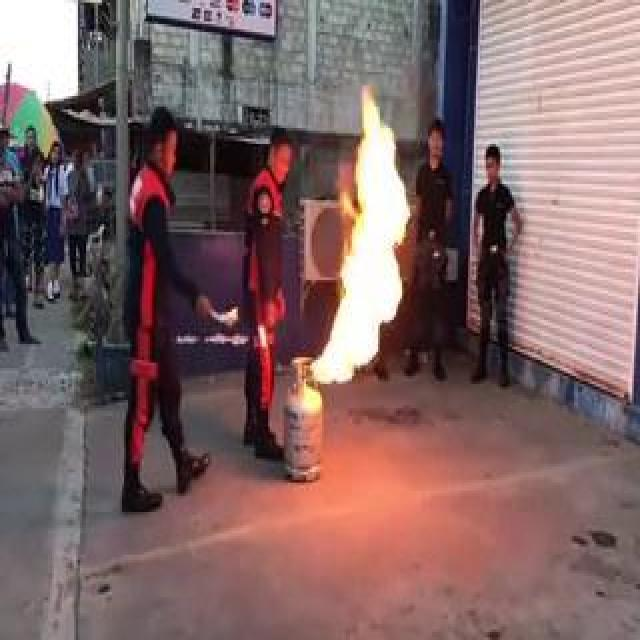Smoke: (309, 85, 409, 387)
